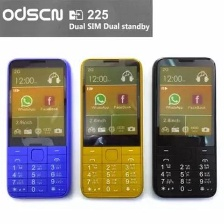phone: (4, 54, 75, 203), (77, 53, 146, 202), (150, 53, 219, 201)
